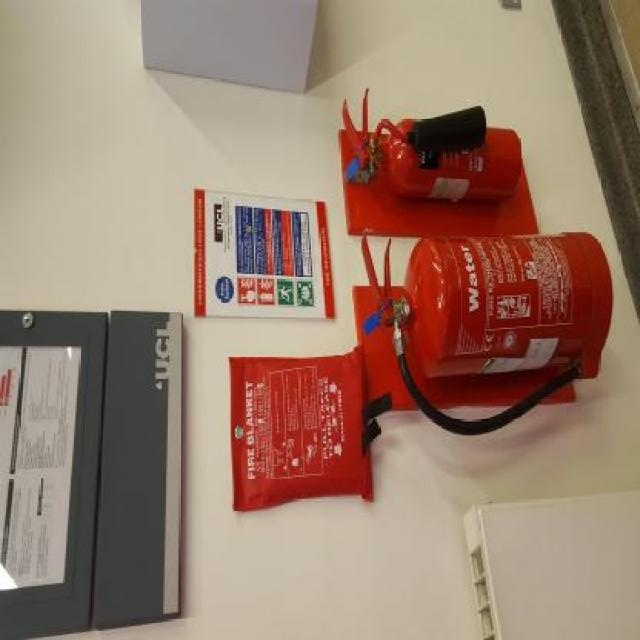fire extinguisher: (360, 232, 614, 440), (342, 93, 523, 204)
